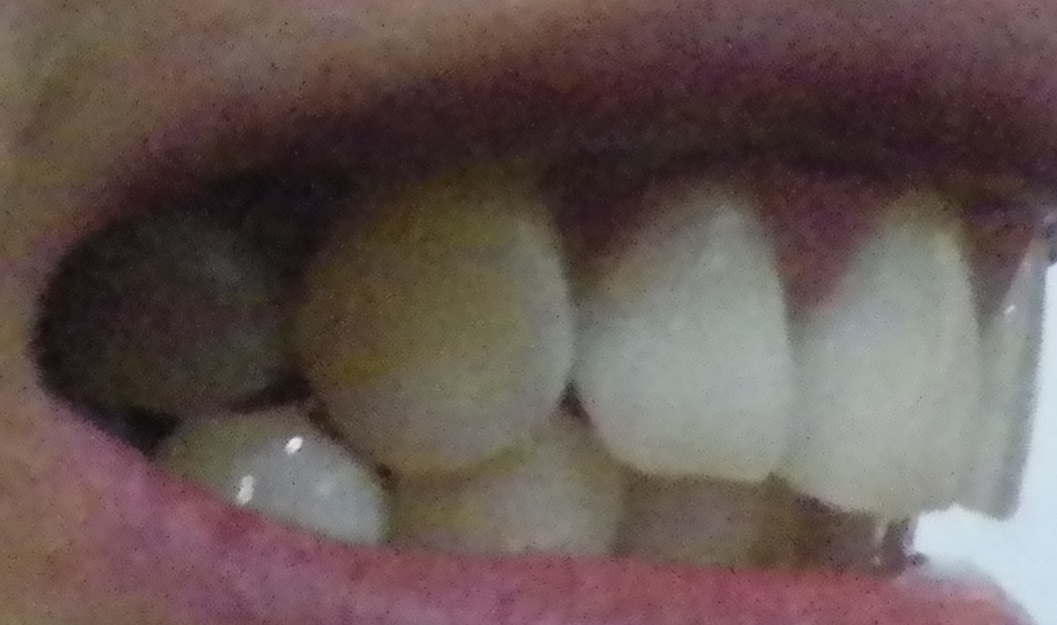boca: (71, 208, 1054, 544)
